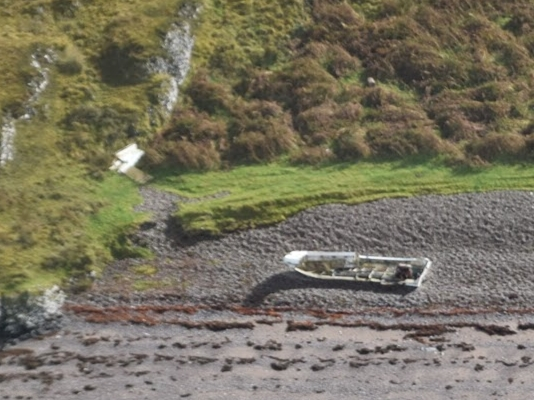boat_cabin: (280, 240, 438, 297)
white_in_green: (88, 124, 166, 192)
